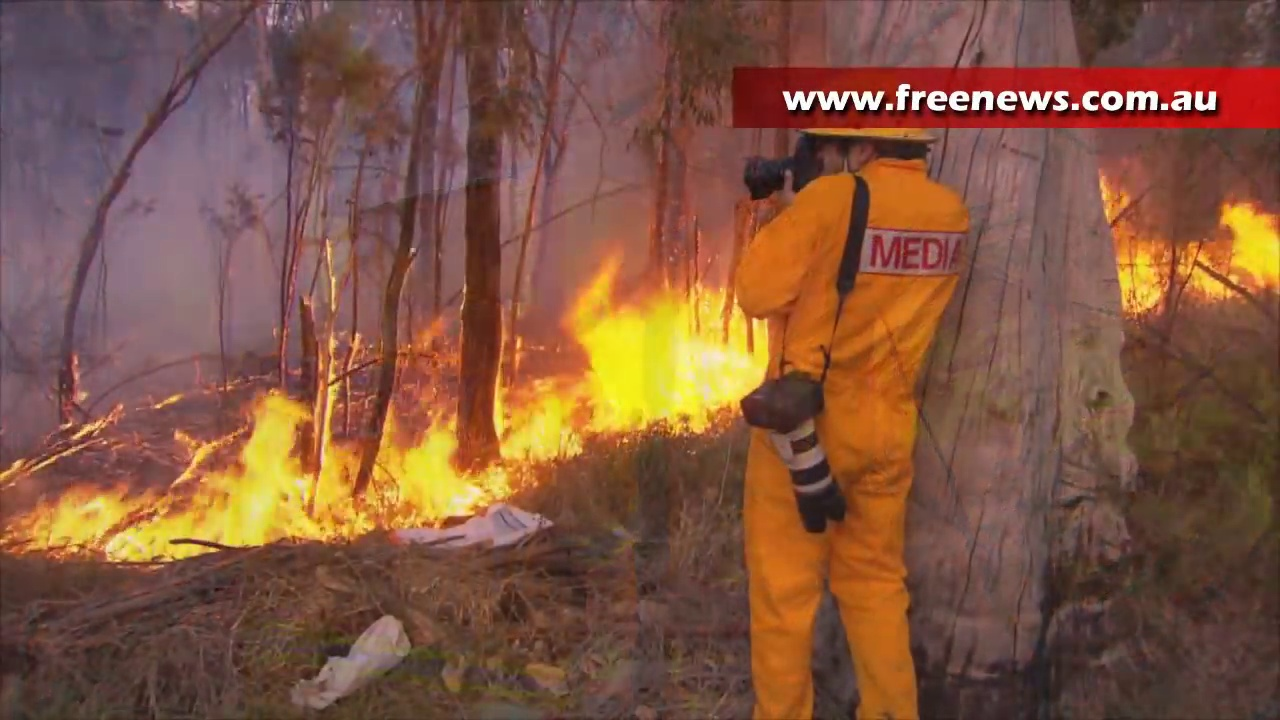fire: (24, 367, 455, 563), (502, 279, 766, 462), (1185, 202, 1280, 296), (1121, 244, 1161, 306)
